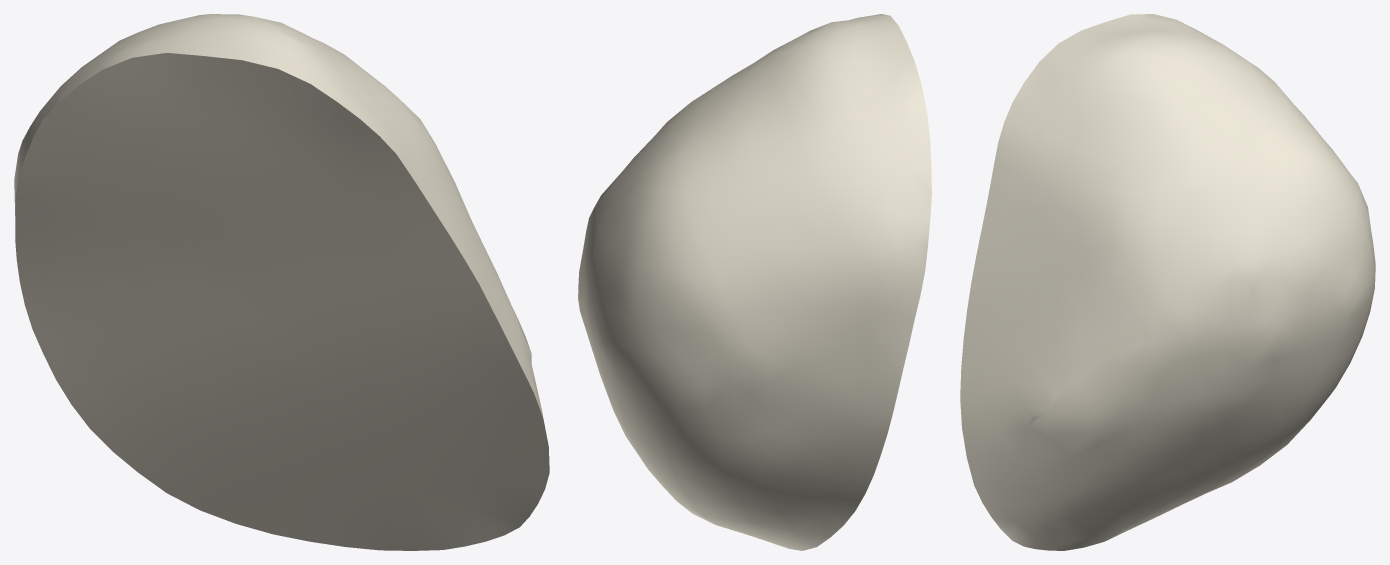
File: fma16325_mm2342.glb
3 renders of one model, left to right at view 1: azimuth 30°, elevation 25°; view 2: azimuth 150°, elevation 25°; view 3: azimuth 270°, elevation 25°, orthographic. The views are drawn at different scales.
Visible parts, largest first — view 1: FMA16325_MM2342; view 2: FMA16325_MM2342; view 3: FMA16325_MM2342.
Part boxes in pixels (box(x1,y1,x2,y2)): FMA16325_MM2342: box(14, 14, 549, 550); FMA16325_MM2342: box(578, 14, 931, 550); FMA16325_MM2342: box(960, 14, 1375, 550).
Size of the model in its own units: 0.0077 by 0.0101 by 0.00843.
